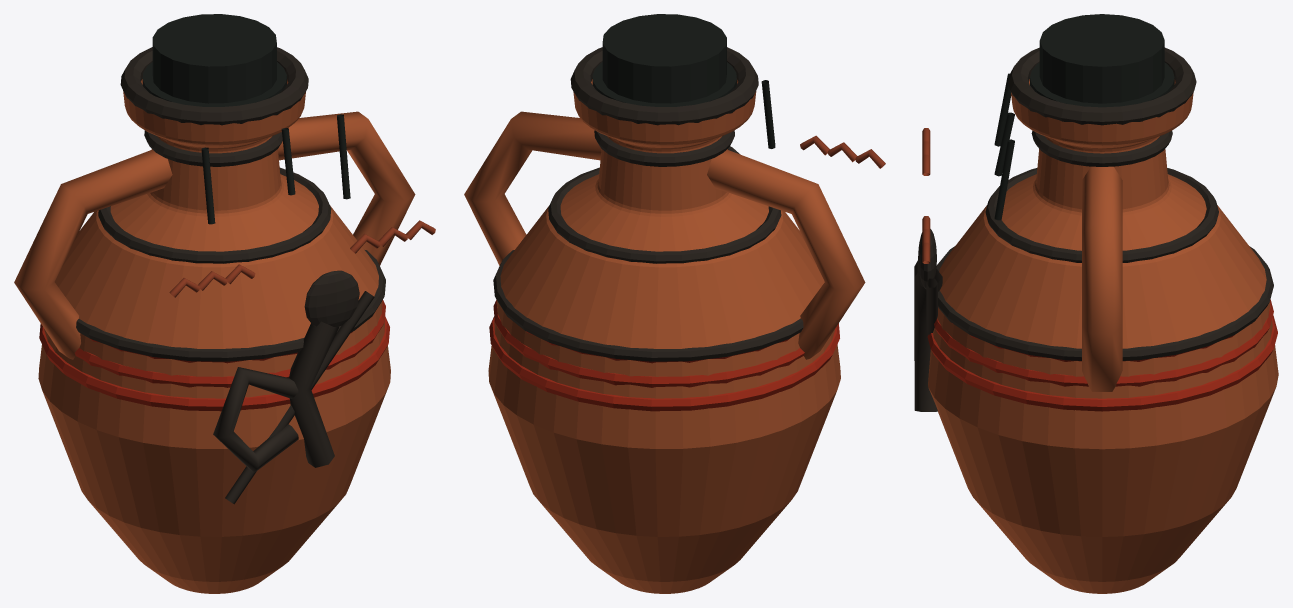
The model's file is amphora_oil_flammable_intact.glb.
The picture shows the model from 3 angles, left to right: view 1: azimuth 30°, elevation 25°; view 2: azimuth 150°, elevation 25°; view 3: azimuth 270°, elevation 25°; orthographic projection.
Parts seen in each view (by area): view 1: OilAmphoraIntactShell, AmphoraHandle, OilAmphoraPitchCork, AmphoraHandle.001, AmphoraRolledRim, OilAmphoraHazardBand, AmphoraPaintBand.002, AmphoraWarriorShield, AmphoraWarriorBody, AmphoraPaintBand.001, OilAmphoraHazardBand.001, AmphoraWarriorHelmet (+5 smaller); view 2: OilAmphoraIntactShell, AmphoraHandle, OilAmphoraPitchCork, AmphoraHandle.001, OilAmphoraHazardBand, AmphoraRolledRim, AmphoraPaintBand.001, AmphoraPaintBand.002, OilAmphoraHazardBand.001, AmphoraPaintBand.003, AmphoraOpenMouth; view 3: OilAmphoraIntactShell, OilAmphoraPitchCork, AmphoraHandle.001, AmphoraRolledRim, OilAmphoraHazardBand, AmphoraPaintBand.001, AmphoraPaintBand.002, OilAmphoraHazardBand.001, AmphoraWarriorBody, AmphoraPaintBand.003, AmphoraOpenMouth, AmphoraWarriorHelmet (+4 smaller).
Boxes of the visible parts, box(x1,y1,x2,y2) form: OilAmphoraIntactShell: box(38, 79, 390, 593); AmphoraHandle: box(14, 149, 172, 359); OilAmphoraPitchCork: box(152, 14, 276, 103); AmphoraHandle.001: box(278, 111, 415, 265); AmphoraRolledRim: box(120, 47, 308, 125); OilAmphoraHazardBand: box(39, 316, 389, 411); AmphoraPaintBand.002: box(98, 167, 331, 263); AmphoraWarriorShield: box(213, 367, 298, 472); AmphoraWarriorBody: box(288, 321, 338, 467); AmphoraPaintBand.001: box(76, 250, 385, 361); OilAmphoraHazardBand.001: box(74, 300, 385, 387); AmphoraWarriorHelmet: box(304, 270, 359, 327); OilAmphoraIntactShell: box(488, 79, 840, 593); AmphoraHandle: box(707, 149, 865, 359); OilAmphoraPitchCork: box(602, 14, 726, 103); AmphoraHandle.001: box(464, 111, 601, 265); OilAmphoraHazardBand: box(489, 316, 839, 411); AmphoraRolledRim: box(570, 47, 758, 125); AmphoraPaintBand.001: box(493, 250, 803, 361); AmphoraPaintBand.002: box(548, 167, 781, 263); OilAmphoraHazardBand.001: box(493, 299, 804, 387); AmphoraPaintBand.003: box(594, 130, 734, 166); AmphoraOpenMouth: box(592, 62, 736, 106); OilAmphoraIntactShell: box(928, 79, 1278, 593); OilAmphoraPitchCork: box(1039, 14, 1164, 103); AmphoraHandle.001: box(1082, 166, 1122, 391); AmphoraRolledRim: box(1008, 47, 1196, 125); OilAmphoraHazardBand: box(927, 315, 1277, 411); AmphoraPaintBand.001: box(936, 246, 1273, 360); AmphoraPaintBand.002: box(985, 168, 1218, 262); OilAmphoraHazardBand.001: box(934, 299, 1273, 386); AmphoraWarriorBody: box(914, 268, 942, 411); AmphoraPaintBand.003: box(1031, 130, 1172, 166); AmphoraOpenMouth: box(1030, 62, 1174, 107); AmphoraWarriorHelmet: box(918, 229, 936, 289).
Bounding box in the file's own units: 0.7806 × 1.02 × 0.63.
